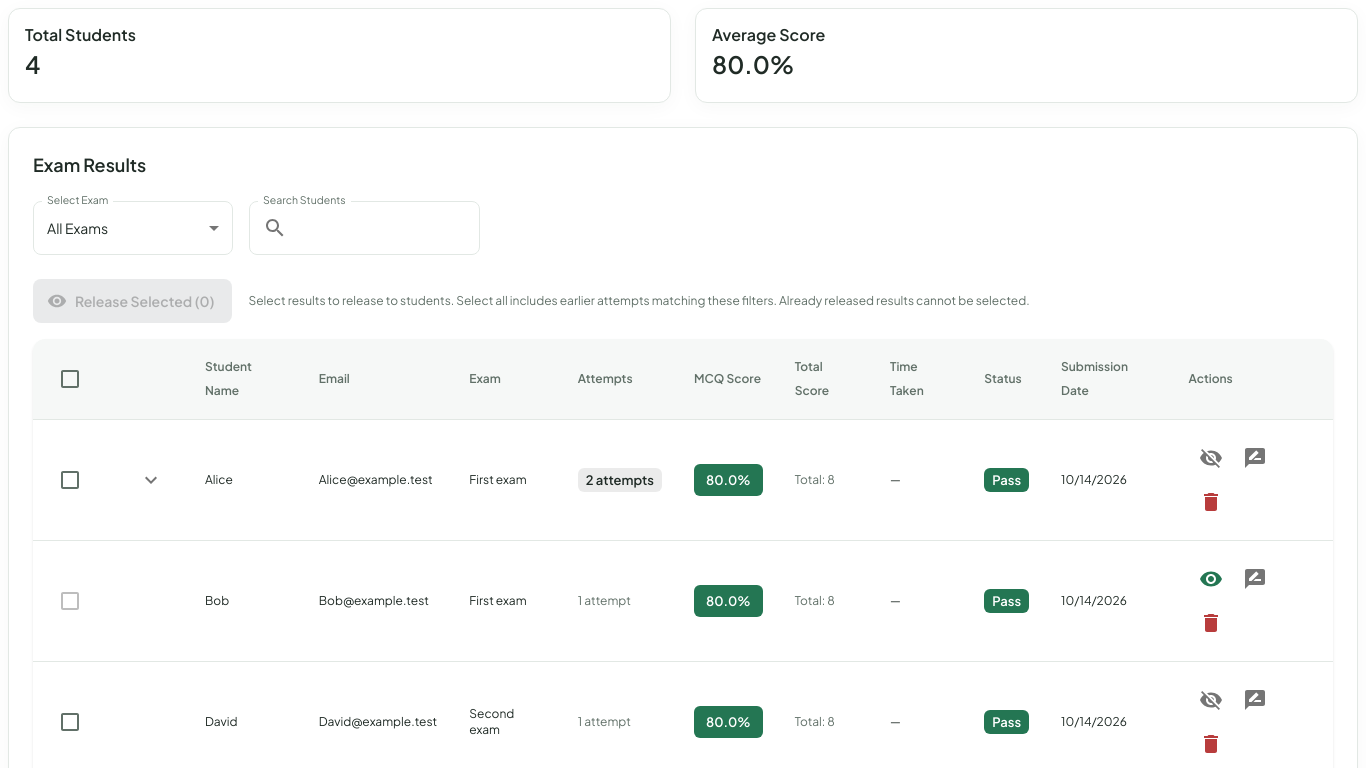
Scenario: select all releases unreleased filtered attempts including earlier attempts, leaving other students untouched
This screenshot has width=1366, height=768.
Expected: the heading "Exam Results" is shown, [33,152,146,177]
Type "Alice" into the field labelled "Search Students" at (388, 228), box [295,201,480,254]
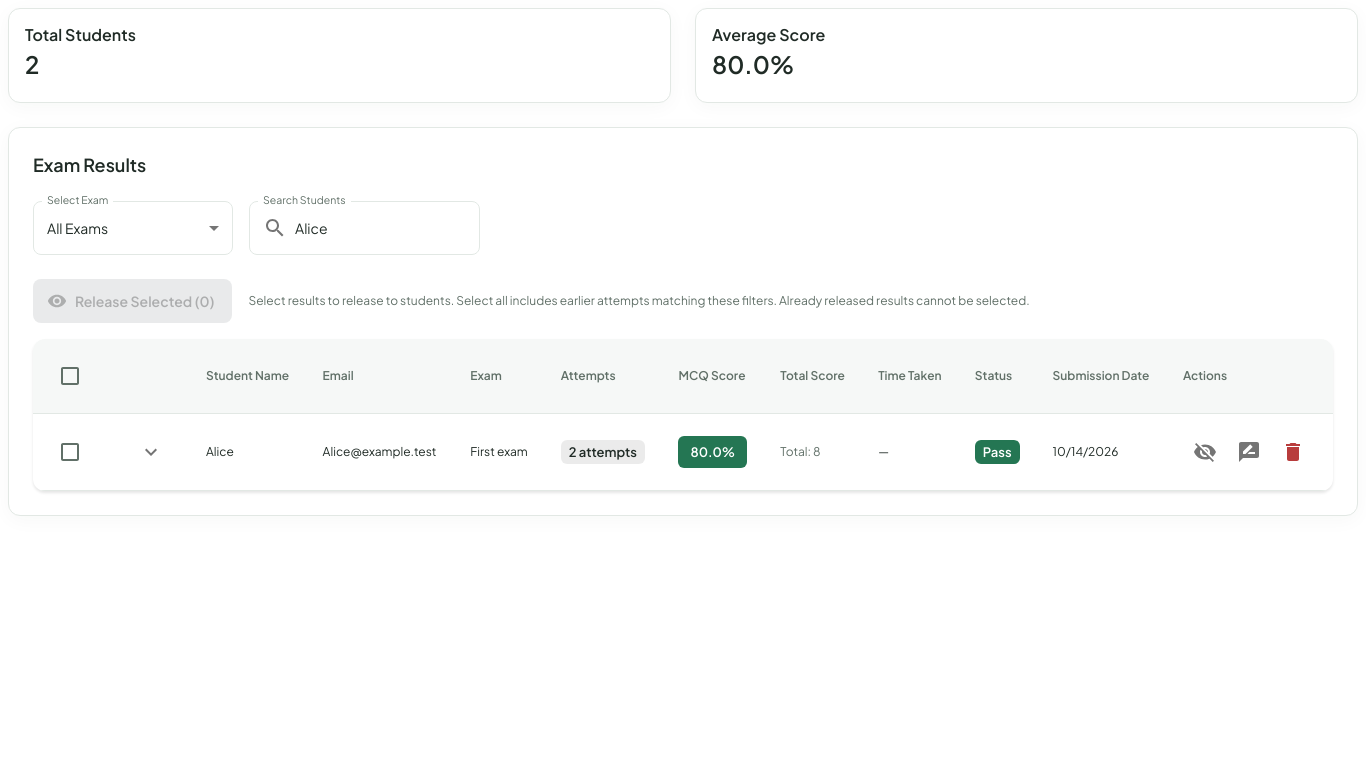
Click the checkbox named "Select all unreleased results matching filters" at (70, 376), box [58,364,82,388]
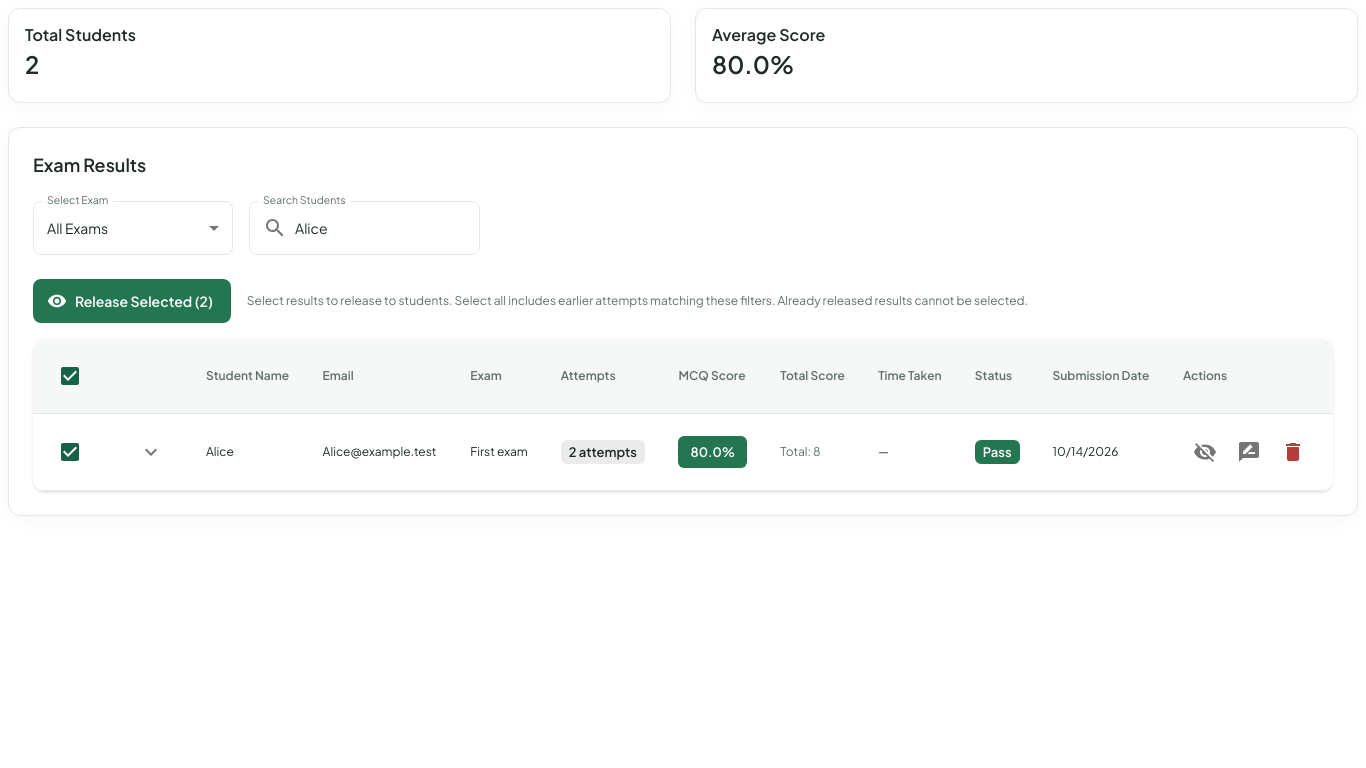
Click the button "Release Selected (2)" at (132, 301), box [33,278,231,323]
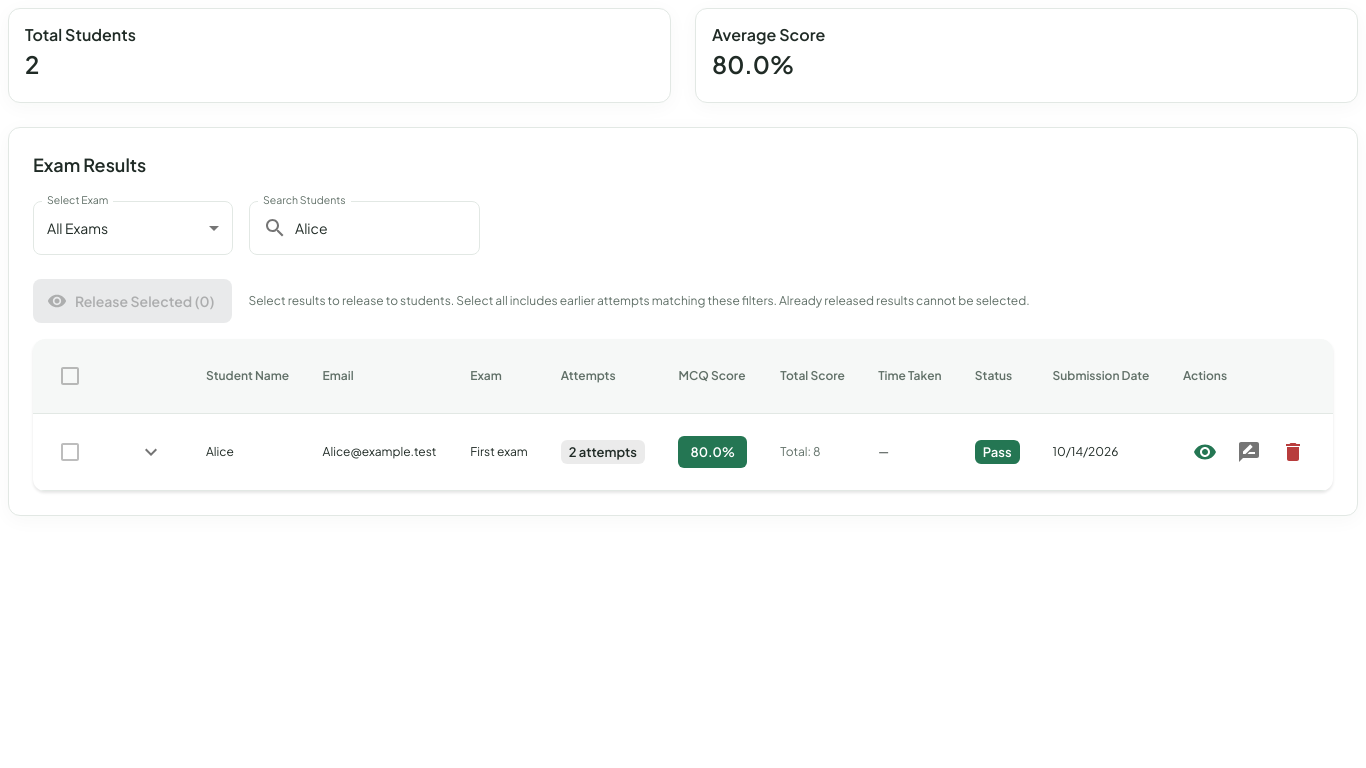
Result: the button "Release Selected (0)" is shown at [33,278,232,323]
Result: the checkbox named "Select Alice" is disabled at [58,440,82,464]
